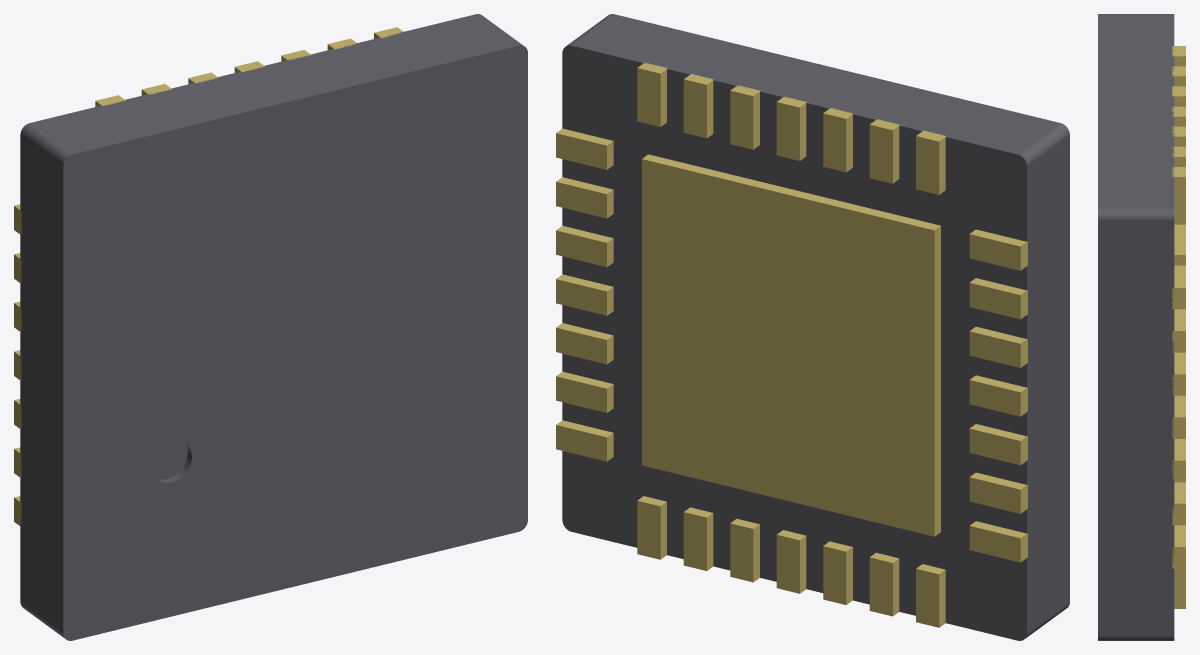
3 renders of one model, left to right at view 1: azimuth 30°, elevation 25°; view 2: azimuth 150°, elevation 25°; view 3: azimuth 270°, elevation 25°, orthographic. The views are drawn at different scales.
Parts seen in each view (by area): view 1: extra, pins; view 2: pins, extra; view 3: extra, pins.
Boxes of the visible parts, box(x1,y1,x2,y2) form: extra: box(20, 14, 527, 640); pins: box(14, 27, 403, 525); pins: box(556, 63, 1027, 627); extra: box(562, 14, 1069, 640); extra: box(1098, 14, 1174, 640); pins: box(1172, 46, 1185, 608).
Size of the model in its own units: 5 by 5 by 0.92.
